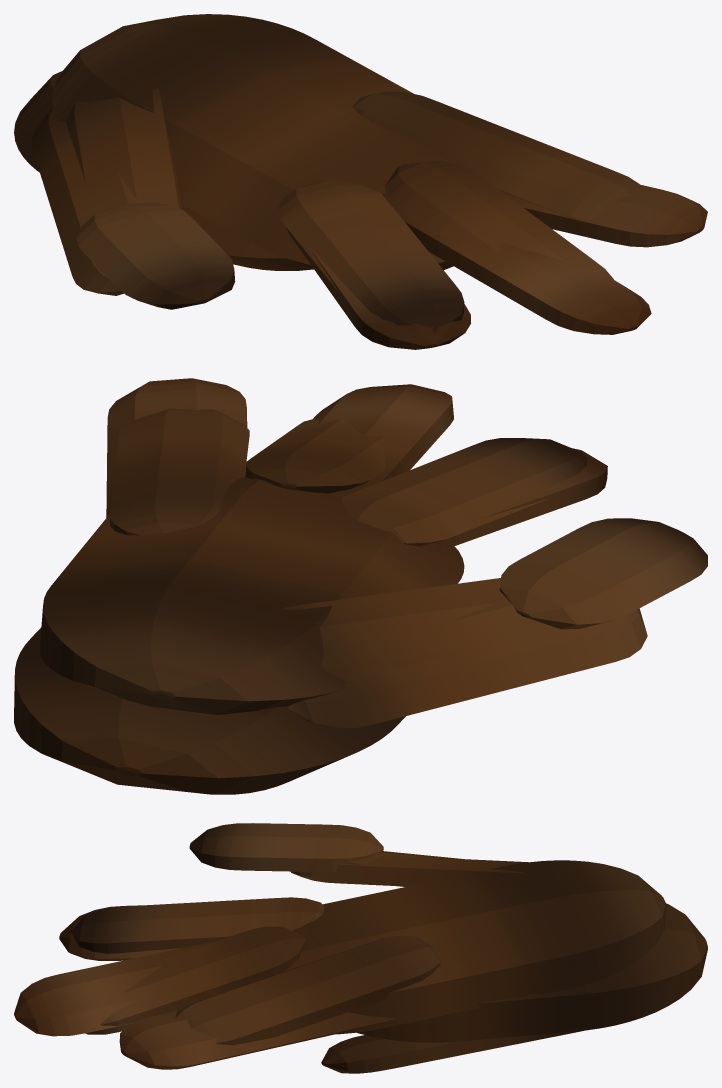
Rendered from left_01_quill.fbx.
3 views of the same model, one above another, from view 1: azimuth 30°, elevation 25°; view 2: azimuth 150°, elevation 25°; view 3: azimuth 270°, elevation 25° (orthographic). The views are drawn at different scales.
Parts seen in each view (by area): view 1: left_01_quill; view 2: left_01_quill; view 3: left_01_quill.
Part boxes in pixels (left/top/right/bottom): left_01_quill: left=14, top=14, right=707, bottom=349; left_01_quill: left=14, top=378, right=707, bottom=794; left_01_quill: left=14, top=823, right=707, bottom=1073.
Bounding box in the file's own units: 1.09 × 0.3031 × 1.4.
